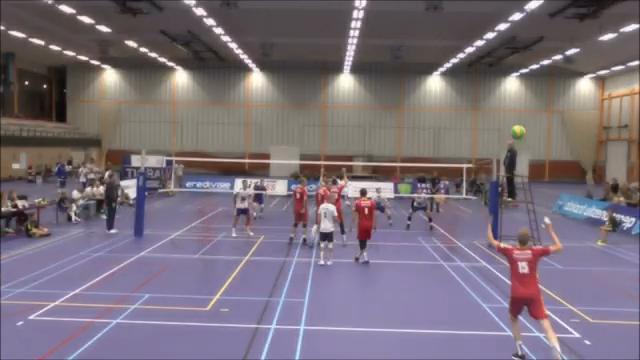battuta: (483, 210, 564, 358)
